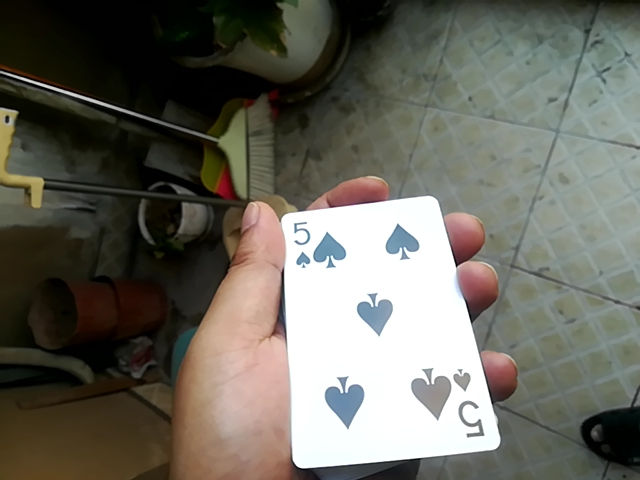ht 5: (274, 190, 484, 477)
